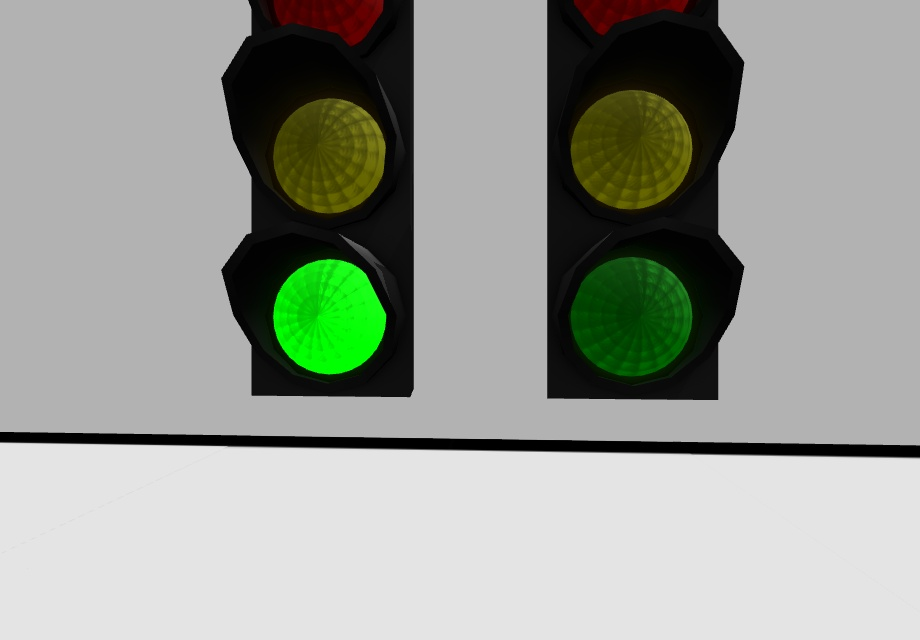green_off: (565, 247, 695, 384)
green_on: (265, 244, 395, 375)
